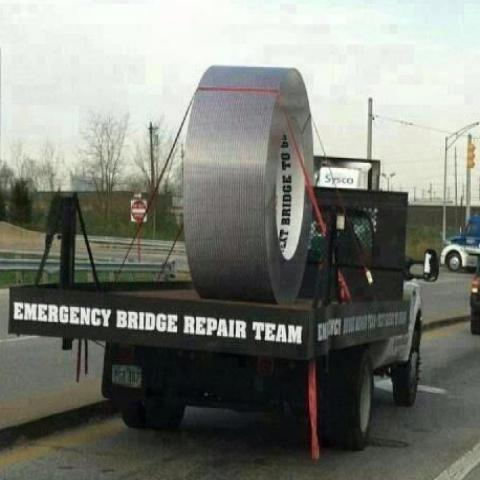car: (439, 214, 480, 272), (470, 268, 480, 334)
truck: (6, 63, 440, 448)
